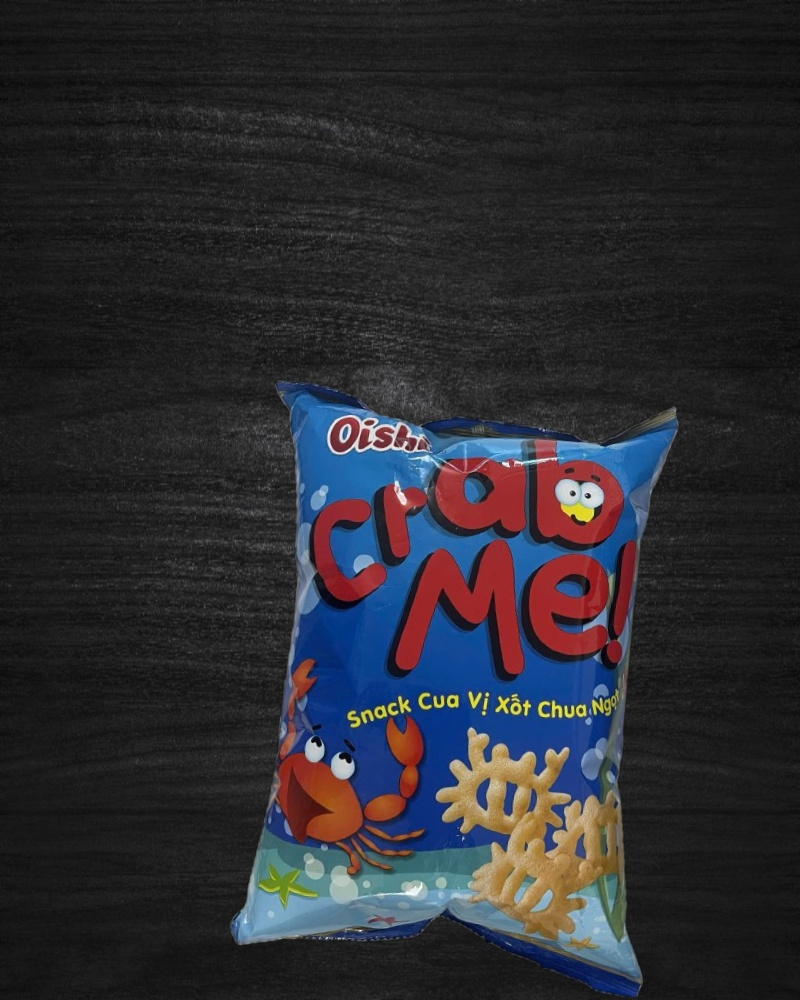Snack chay: (225, 372, 693, 1000)
